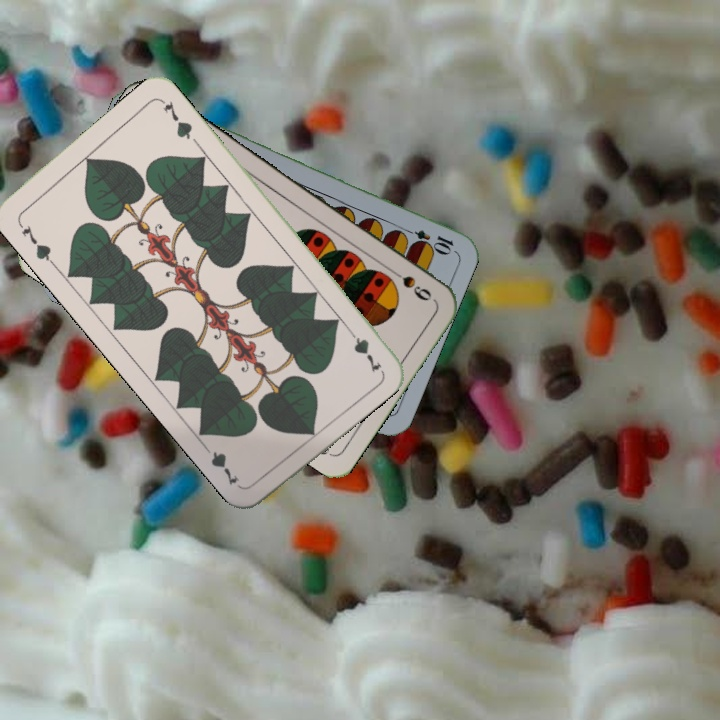E10: (398, 223, 456, 255)
G7: (342, 322, 385, 375), (14, 217, 57, 267)
S9: (384, 264, 435, 304)
